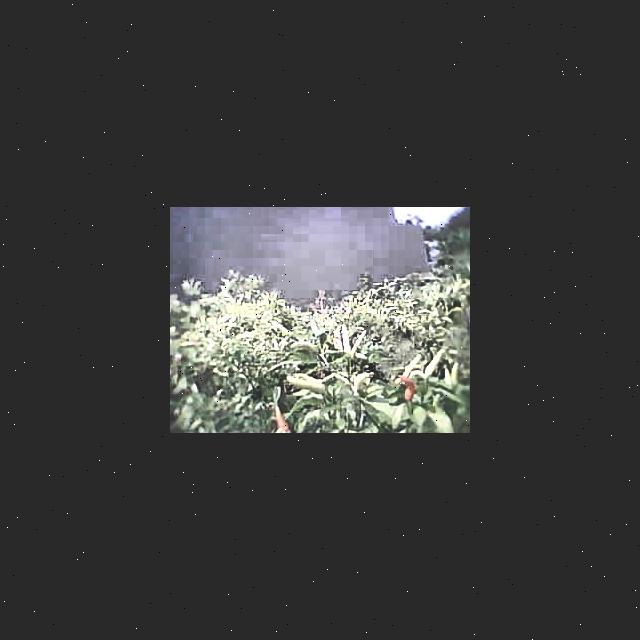Cabai: (392, 372, 423, 403)
